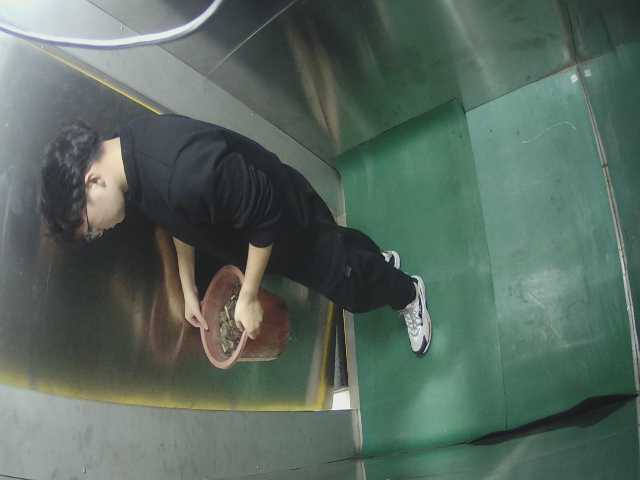flowerpot: (160, 262, 296, 378)
person: (54, 127, 443, 350)
